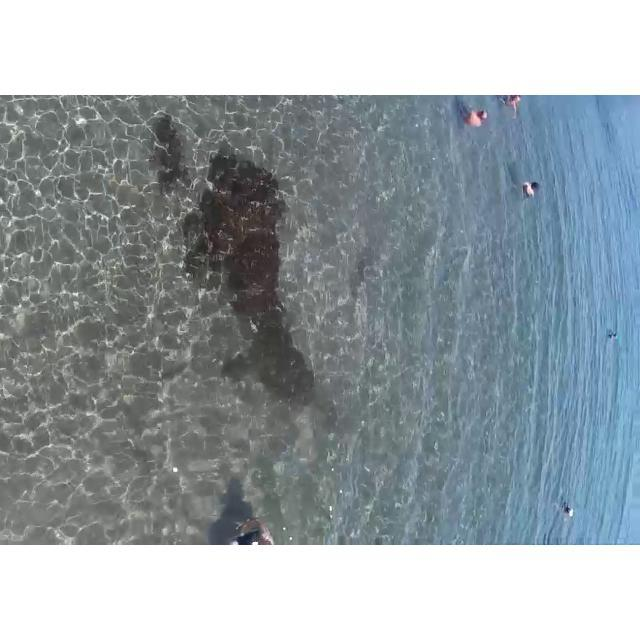human: (520, 172, 547, 212), (465, 99, 486, 133), (500, 95, 531, 113)
